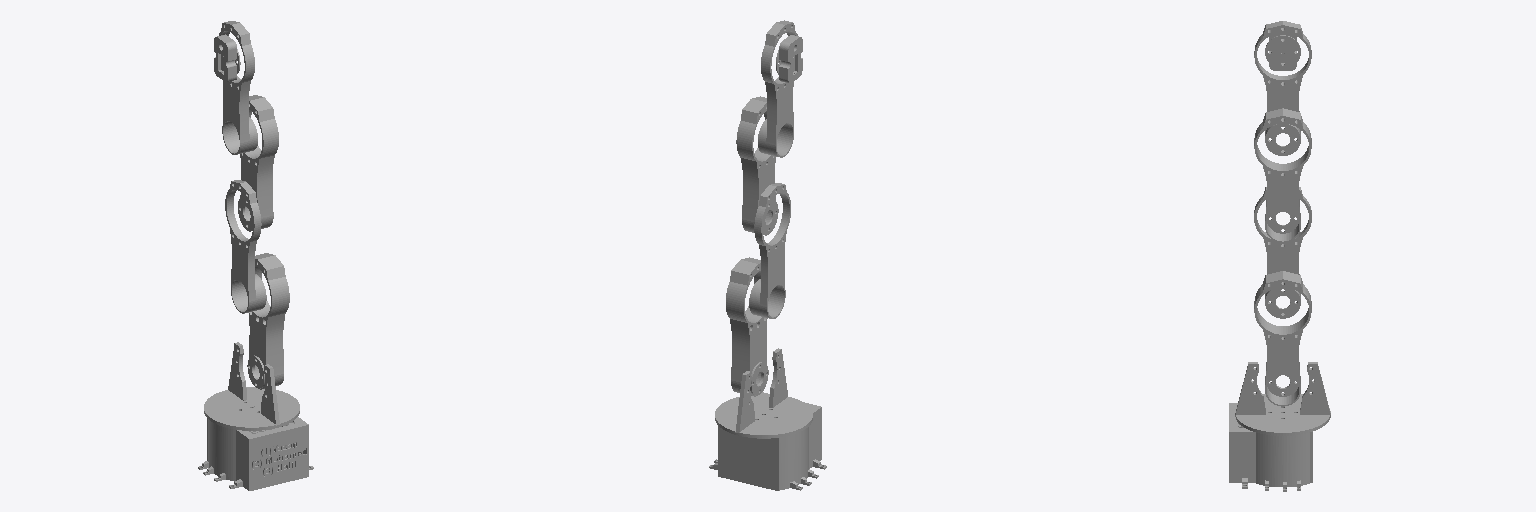
URDF robot description (urdf_expoert_second_design):
<?xml version="1.0" ?>
<!-- =================================================================================== -->
<!-- |    This document was autogenerated by xacro from /home/yazan/ros2_new_ws/install/working_robot/share/working_robot/urdf/urdf_expoert_second_design.xacro | -->
<!-- |    EDITING THIS FILE BY HAND IS NOT RECOMMENDED                                 | -->
<!-- =================================================================================== -->
<robot name="urdf_expoert_second_design">
  <material name="silver">
    <color rgba="0.700 0.700 0.700 1.000"/>
  </material>
  <transmission name="bottom_holder_rotation_tran">
    <type>transmission_interface/SimpleTransmission</type>
    <joint name="bottom_holder_rotation">
      <hardwareInterface>hardware_interface/EffortJointInterface</hardwareInterface>
    </joint>
    <actuator name="bottom_holder_rotation_actr">
      <hardwareInterface>hardware_interface/EffortJointInterface</hardwareInterface>
      <mechanicalReduction>1</mechanicalReduction>
    </actuator>
  </transmission>
  <transmission name="shoulder_arm_rotation_tran">
    <type>transmission_interface/SimpleTransmission</type>
    <joint name="shoulder_arm_rotation">
      <hardwareInterface>hardware_interface/EffortJointInterface</hardwareInterface>
    </joint>
    <actuator name="shoulder_arm_rotation_actr">
      <hardwareInterface>hardware_interface/EffortJointInterface</hardwareInterface>
      <mechanicalReduction>1</mechanicalReduction>
    </actuator>
  </transmission>
  <transmission name="arm_holder_right_after_shoulder_rotation_tran">
    <type>transmission_interface/SimpleTransmission</type>
    <joint name="arm_holder_right_after_shoulder_rotation">
      <hardwareInterface>hardware_interface/EffortJointInterface</hardwareInterface>
    </joint>
    <actuator name="arm_holder_right_after_shoulder_rotation_actr">
      <hardwareInterface>hardware_interface/EffortJointInterface</hardwareInterface>
      <mechanicalReduction>1</mechanicalReduction>
    </actuator>
  </transmission>
  <transmission name="elbow_arm_rotation_tran">
    <type>transmission_interface/SimpleTransmission</type>
    <joint name="elbow_arm_rotation">
      <hardwareInterface>hardware_interface/EffortJointInterface</hardwareInterface>
    </joint>
    <actuator name="elbow_arm_rotation_actr">
      <hardwareInterface>hardware_interface/EffortJointInterface</hardwareInterface>
      <mechanicalReduction>1</mechanicalReduction>
    </actuator>
  </transmission>
  <transmission name="gripper_holder_rotation_tran">
    <type>transmission_interface/SimpleTransmission</type>
    <joint name="gripper_holder_rotation">
      <hardwareInterface>hardware_interface/EffortJointInterface</hardwareInterface>
    </joint>
    <actuator name="gripper_holder_rotation_actr">
      <hardwareInterface>hardware_interface/EffortJointInterface</hardwareInterface>
      <mechanicalReduction>1</mechanicalReduction>
    </actuator>
  </transmission>
  <transmission name="end_factor_rotation_tran">
    <type>transmission_interface/SimpleTransmission</type>
    <joint name="end_factor_rotation">
      <hardwareInterface>hardware_interface/EffortJointInterface</hardwareInterface>
    </joint>
    <actuator name="end_factor_rotation_actr">
      <hardwareInterface>hardware_interface/EffortJointInterface</hardwareInterface>
      <mechanicalReduction>1</mechanicalReduction>
    </actuator>
  </transmission>
  <!--
  <gazebo>
    <plugin filename="libgazebo_ros_control.so" name="control"/>
  </gazebo>
  -->
  <gazebo reference="base_link">
    <material>Gazebo/Silver</material>
    <mu1>0.2</mu1>
    <mu2>0.2</mu2>
    <selfCollide>true</selfCollide>
    <gravity>true</gravity>
  </gazebo>
  <gazebo reference="bottom_holder_1">
    <material>Gazebo/Silver</material>
    <mu1>0.2</mu1>
    <mu2>0.2</mu2>
    <selfCollide>true</selfCollide>
  </gazebo>
  <gazebo reference="shoulder_arm_1">
    <material>Gazebo/Silver</material>
    <mu1>0.2</mu1>
    <mu2>0.2</mu2>
    <selfCollide>true</selfCollide>
  </gazebo>
  <gazebo reference="arm_holder_right_after_shoulder_1">
    <material>Gazebo/Silver</material>
    <mu1>0.2</mu1>
    <mu2>0.2</mu2>
    <selfCollide>true</selfCollide>
  </gazebo>
  <gazebo reference="elbow_arm_1">
    <material>Gazebo/Silver</material>
    <mu1>0.2</mu1>
    <mu2>0.2</mu2>
    <selfCollide>true</selfCollide>
  </gazebo>
  <gazebo reference="gripper_holder_1">
    <material>Gazebo/Silver</material>
    <mu1>0.2</mu1>
    <mu2>0.2</mu2>
    <selfCollide>true</selfCollide>
  </gazebo>
  <gazebo reference="robotic_arm_gripper_1">
    <material>Gazebo/Silver</material>
    <mu1>0.2</mu1>
    <mu2>0.2</mu2>
    <selfCollide>true</selfCollide>
  </gazebo>
  <link name="base_link">
    <inertial>
      <origin rpy="0 0 0" xyz="-1.1009238833671162e-05 0.16094415069111942 -0.1654471209389099"/>
      <mass value="1.112848875133212"/>
      <inertia ixx="0.001522" ixy="-1e-06" ixz="-0.0" iyy="0.001532" iyz="3e-06" izz="0.002232"/>
    </inertial>
    <visual>
      <origin rpy="0 0 0" xyz="0 0 0"/>
      <geometry>
        <mesh filename="package://working_robot/meshes/base_link.stl" scale="0.001 0.001 0.001"/>
      </geometry>
      <material name="silver"/>
    </visual>
    <collision>
      <origin rpy="0 0 0" xyz="0 0 0"/>
      <geometry>
        <mesh filename="package://working_robot/meshes/base_link.stl" scale="0.001 0.001 0.001"/>
      </geometry>
    </collision>
  </link>
  <link name="bottom_holder_1">
    <inertial>
      <origin rpy="0 0 0" xyz="0.000632156036678196 -2.4478357749102564e-07 0.010690196353127165"/>
      <mass value="0.4117289758525692"/>
      <inertia ixx="0.000453" ixy="0.0" ixz="-5e-06" iyy="0.00031" iyz="0.0" izz="0.000582"/>
    </inertial>
    <visual>
      <origin rpy="0 0 0" xyz="0.0 -0.167935 0.132865"/>
      <geometry>
        <mesh filename="package://working_robot/meshes/bottom_holder_1.stl" scale="0.001 0.001 0.001"/>
      </geometry>
      <material name="silver"/>
    </visual>
    <collision>
      <origin rpy="0 0 0" xyz="0.0 -0.167935 0.132865"/>
      <geometry>
        <mesh filename="package://working_robot/meshes/bottom_holder_1.stl" scale="0.001 0.001 0.001"/>
      </geometry>
    </collision>
  </link>
  <link name="shoulder_arm_1">
    <inertial>
      <origin rpy="0 0 0" xyz="0.013333633194672827 -2.4478296409280453e-07 0.05560761862628329"/>
      <mass value="0.5526510438521538"/>
      <inertia ixx="0.000979" ixy="0.0" ixz="-1.5e-05" iyy="0.000893" iyz="0.0" izz="0.00014"/>
    </inertial>
    <visual>
      <origin rpy="0 0 0" xyz="-0.005 -0.167935 0.084465"/>
      <geometry>
        <mesh filename="package://working_robot/meshes/shoulder_arm_1.stl" scale="0.001 0.001 0.001"/>
      </geometry>
      <material name="silver"/>
    </visual>
    <collision>
      <origin rpy="0 0 0" xyz="-0.005 -0.167935 0.084465"/>
      <geometry>
        <mesh filename="package://working_robot/meshes/shoulder_arm_1.stl" scale="0.001 0.001 0.001"/>
      </geometry>
    </collision>
  </link>
  <link name="arm_holder_right_after_shoulder_1">
    <inertial>
      <origin rpy="0 0 0" xyz="-0.016575109155223963 -2.2569197652422268e-07 0.050146773600070936"/>
      <mass value="0.25335323203607535"/>
      <inertia ixx="0.000486" ixy="0.0" ixz="2.5e-05" iyy="0.000441" iyz="0.0" izz="6.2e-05"/>
    </inertial>
    <visual>
      <origin rpy="0 0 0" xyz="-0.0072 -0.167935 -0.015535"/>
      <geometry>
        <mesh filename="package://working_robot/meshes/arm_holder_right_after_shoulder_1.stl" scale="0.001 0.001 0.001"/>
      </geometry>
      <material name="silver"/>
    </visual>
    <collision>
      <origin rpy="0 0 0" xyz="-0.0072 -0.167935 -0.015535"/>
      <geometry>
        <mesh filename="package://working_robot/meshes/arm_holder_right_after_shoulder_1.stl" scale="0.001 0.001 0.001"/>
      </geometry>
    </collision>
  </link>
  <link name="elbow_arm_1">
    <inertial>
      <origin rpy="0 0 0" xyz="0.012610794300089932 -2.447837582630896e-07 0.05575758634221434"/>
      <mass value="0.48863224602939626"/>
      <inertia ixx="0.00085" ixy="-0.0" ixz="-1.2e-05" iyy="0.000769" iyz="-0.0" izz="0.000118"/>
    </inertial>
    <visual>
      <origin rpy="0 0 0" xyz="0.0068 -0.167935 -0.115535"/>
      <geometry>
        <mesh filename="package://working_robot/meshes/elbow_arm_1.stl" scale="0.001 0.001 0.001"/>
      </geometry>
      <material name="silver"/>
    </visual>
    <collision>
      <origin rpy="0 0 0" xyz="0.0068 -0.167935 -0.115535"/>
      <geometry>
        <mesh filename="package://working_robot/meshes/elbow_arm_1.stl" scale="0.001 0.001 0.001"/>
      </geometry>
    </collision>
  </link>
  <link name="gripper_holder_1">
    <inertial>
      <origin rpy="0 0 0" xyz="-0.015708268904436173 -2.447836850993923e-07 0.0520955229905882"/>
      <mass value="0.31483005565452693"/>
      <inertia ixx="0.000579" ixy="-0.0" ixz="2.2e-05" iyy="0.000524" iyz="0.0" izz="7.3e-05"/>
    </inertial>
    <visual>
      <origin rpy="0 0 0" xyz="0.0038 -0.167935 -0.215535"/>
      <geometry>
        <mesh filename="package://working_robot/meshes/gripper_holder_1.stl" scale="0.001 0.001 0.001"/>
      </geometry>
      <material name="silver"/>
    </visual>
    <collision>
      <origin rpy="0 0 0" xyz="0.0038 -0.167935 -0.215535"/>
      <geometry>
        <mesh filename="package://working_robot/meshes/gripper_holder_1.stl" scale="0.001 0.001 0.001"/>
      </geometry>
    </collision>
  </link>
  <link name="robotic_arm_gripper_1">
    <inertial>
      <origin rpy="0 0 0" xyz="-0.006695702869069793 -1.977584226653395e-07 0.0004126600011846171"/>
      <mass value="0.12123840028389098"/>
      <inertia ixx="3.7e-05" ixy="0.0" ixz="0.0" iyy="2.7e-05" iyz="-0.0" izz="1.3e-05"/>
    </inertial>
    <visual>
      <origin rpy="0 0 0" xyz="0.0269 -0.167935 -0.315535"/>
      <geometry>
        <mesh filename="package://working_robot/meshes/robotic_arm_gripper_1.stl" scale="0.001 0.001 0.001"/>
      </geometry>
      <material name="silver"/>
    </visual>
    <collision>
      <origin rpy="0 0 0" xyz="0.0269 -0.167935 -0.315535"/>
      <geometry>
        <mesh filename="package://working_robot/meshes/robotic_arm_gripper_1.stl" scale="0.001 0.001 0.001"/>
      </geometry>
    </collision>
  </link>
  <joint name="bottom_holder_rotation" type="revolute">
    <origin rpy="0 0 0" xyz="0.0 0.167935 -0.132865"/>
    <parent link="base_link"/>
    <child link="bottom_holder_1"/>
    <limit lower="-3.14" upper="3.14" effort="10" velocity="1.0"/>
    <axis xyz="0.0 0.0 1.0"/>
  </joint>
  <joint name="shoulder_arm_rotation" type="revolute">
    <origin rpy="0 0 0" xyz="0.005 0.0 0.0484"/>
    <parent link="bottom_holder_1"/>
    <child link="shoulder_arm_1"/>
    <limit lower="-3.14" upper="3.14" effort="10" velocity="1.0"/>
    <axis xyz="1.0 0.0 0.0"/>
  </joint>
  <joint name="arm_holder_right_after_shoulder_rotation" type="revolute">
    <origin rpy="0 0 0" xyz="0.0022 0.0 0.1"/>
    <parent link="shoulder_arm_1"/>
    <child link="arm_holder_right_after_shoulder_1"/>
    <limit lower="-3.14" upper="3.14" effort="10" velocity="1.0"/>
    <axis xyz="-1.0 0.0 0.0"/>
  </joint>
  <joint name="elbow_arm_rotation" type="revolute">
    <origin rpy="0 0 0" xyz="-0.014 0.0 0.1"/>
    <parent link="arm_holder_right_after_shoulder_1"/>
    <child link="elbow_arm_1"/>
    <limit lower="-3.14" upper="3.14" effort="10" velocity="1.0"/>
    <axis xyz="1.0 0.0 0.0"/>
  </joint>
  <joint name="gripper_holder_rotation" type="revolute">
    <origin rpy="0 0 0" xyz="0.003 0.0 0.1"/>
    <parent link="elbow_arm_1"/>
    <child link="gripper_holder_1"/>
    <limit lower="-3.14" upper="3.14" effort="10" velocity="1.0"/>
    <axis xyz="-1.0 -0.0 -0.0"/>
  </joint>
  <joint name="end_factor_rotation" type="revolute">
    <origin rpy="0 0 0" xyz="-0.0231 0.0 0.1"/>
    <parent link="gripper_holder_1"/>
    <child link="robotic_arm_gripper_1"/>
    <limit lower="-3.14" upper="3.14" effort="10" velocity="1.0"/>
    <axis xyz="-1.0 0.0 -0.0"/>
  </joint>
    
    
    
<ros2_control name="FakeSystem" type="system">
  <hardware>
    <plugin>mock_components/GenericSystem</plugin>
  </hardware>

  <joint name="bottom_holder_rotation">
    <command_interface name="position">
      <param name="min">-3.14</param>
      <param name="max">3.14</param>
    </command_interface>
    <state_interface name="position">
      <param name="initial_value">0.0</param>
    </state_interface>
    <state_interface name="velocity"/>
  </joint>

  <joint name="shoulder_arm_rotation">
    <command_interface name="position">
      <param name="min">-1.57</param>
      <param name="max">1.57</param>
    </command_interface>
    <state_interface name="position">
      <param name="initial_value">0.0</param>
    </state_interface>
    <state_interface name="velocity"/>
  </joint>

  <joint name="arm_holder_right_after_shoulder_rotation">
    <command_interface name="position">
      <param name="min">-1.57</param>
      <param name="max">1.57</param>
    </command_interface>
    <state_interface name="position">
      <param name="initial_value">0.0</param>
    </state_interface>
    <state_interface name="velocity"/>
  </joint>

  <joint name="elbow_arm_rotation">
    <command_interface name="position">
      <param name="min">-1.57</param>
      <param name="max">1.57</param>
    </command_interface>
    <state_interface name="position">
      <param name="initial_value">0.0</param>
    </state_interface>
    <state_interface name="velocity"/>
  </joint>

  <joint name="gripper_holder_rotation">
    <command_interface name="position">
      <param name="min">-3.14</param>
      <param name="max">3.14</param>
    </command_interface>
    <state_interface name="position">
      <param name="initial_value">0.0</param>
    </state_interface>
    <state_interface name="velocity"/>
  </joint>

  <joint name="end_factor_rotation">
    <command_interface name="position">
      <param name="min">-3.14</param>
      <param name="max">3.14</param>
    </command_interface>
    <state_interface name="position">
      <param name="initial_value">0.0</param>
    </state_interface>
    <state_interface name="velocity"/>
  </joint>
</ros2_control>

</robot>

--- Render facts (derived) ---
3 views of the same robot in one strip: view 1: azimuth 30°, elevation 25°; view 2: azimuth 150°, elevation 25°; view 3: azimuth 270°, elevation 25° (orthographic).
Robot: urdf_expoert_second_design — 7 links, 6 joints (6 revolute); root link base_link; default pose: all joints at 0.
Visible links, largest first — view 1: base_link, bottom_holder_1, shoulder_arm_1, elbow_arm_1, arm_holder_right_after_shoulder_1, gripper_holder_1, robotic_arm_gripper_1; view 2: base_link, bottom_holder_1, shoulder_arm_1, arm_holder_right_after_shoulder_1, elbow_arm_1, gripper_holder_1, robotic_arm_gripper_1; view 3: base_link, bottom_holder_1, shoulder_arm_1, elbow_arm_1, gripper_holder_1, arm_holder_right_after_shoulder_1, robotic_arm_gripper_1.
Link boxes in pixels (x1,y1,x2,y2): base_link: (198,417,313,490); bottom_holder_1: (204,342,299,430); shoulder_arm_1: (247,253,289,389); elbow_arm_1: (238,95,278,231); arm_holder_right_after_shoulder_1: (225,180,266,313); gripper_holder_1: (219,21,257,154); robotic_arm_gripper_1: (214,34,240,81); base_link: (709,392,826,490); bottom_holder_1: (715,348,812,438); shoulder_arm_1: (726,257,768,396); arm_holder_right_after_shoulder_1: (749,183,790,318); elbow_arm_1: (736,96,778,235); gripper_holder_1: (758,20,797,157); robotic_arm_gripper_1: (776,35,802,83); base_link: (1229,403,1312,491); bottom_holder_1: (1235,362,1330,435); shoulder_arm_1: (1254,271,1311,406); elbow_arm_1: (1254,108,1311,242); gripper_holder_1: (1254,21,1311,155); arm_holder_right_after_shoulder_1: (1254,187,1311,318); robotic_arm_gripper_1: (1265,33,1300,70).
Size in the robot's own frame: 0.122 by 0.1159 by 0.5534 metres.
7 mesh visuals loaded from 7 distinct referenced files (7 binary STL).
